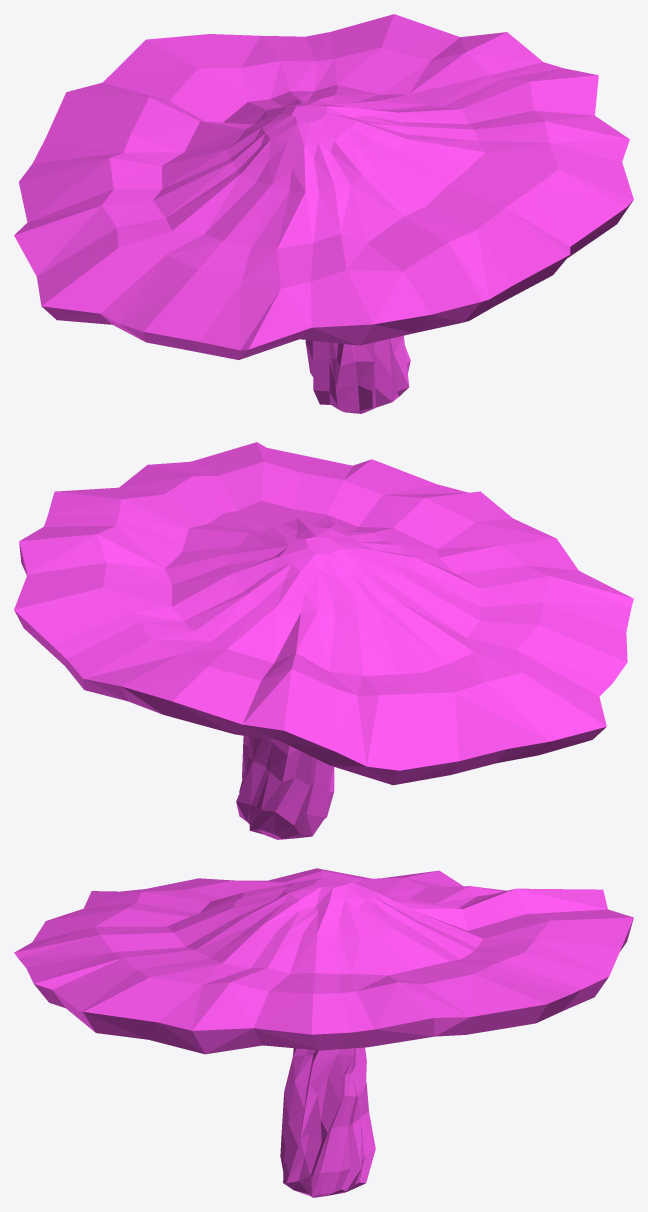
The model's file is SM_Mushroom_Glow_Big_A_Fantasy.fbx.
3 views of the same model, one above another, from view 1: azimuth 30°, elevation 25°; view 2: azimuth 150°, elevation 25°; view 3: azimuth 270°, elevation 25° (orthographic). The views are drawn at different scales.
Visible parts, largest first — view 1: SM_Mushroom_Glow_Big_A_Fantasy; view 2: SM_Mushroom_Glow_Big_A_Fantasy; view 3: SM_Mushroom_Glow_Big_A_Fantasy.
Part boxes in pixels (<box>): SM_Mushroom_Glow_Big_A_Fantasy: <box>14,14,633,413</box>; SM_Mushroom_Glow_Big_A_Fantasy: <box>14,442,633,839</box>; SM_Mushroom_Glow_Big_A_Fantasy: <box>14,868,633,1197</box>.
Bounding box in the file's own units: 3.76 × 1.96 × 3.79.
